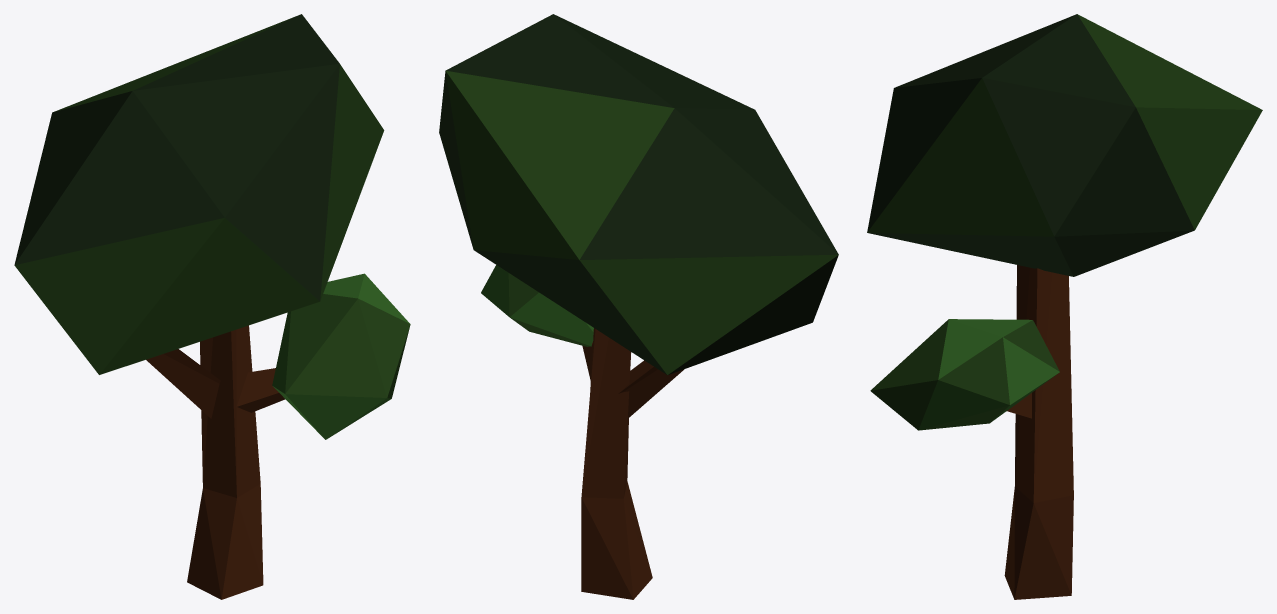
File: Tree3_M1_4_medium.fbx
3 renders of one model, left to right at view 1: azimuth 30°, elevation 25°; view 2: azimuth 150°, elevation 25°; view 3: azimuth 270°, elevation 25°, orthographic. The views are drawn at different scales.
Parts seen in each view (by area): view 1: Tree3_M1_4_medium; view 2: Tree3_M1_4_medium; view 3: Tree3_M1_4_medium.
Part boxes in pixels (x1,y1,x2,y2): Tree3_M1_4_medium: [14, 14, 410, 599]; Tree3_M1_4_medium: [439, 14, 838, 599]; Tree3_M1_4_medium: [867, 14, 1262, 599].
Bounding box in the file's own units: 264 × 344 × 223.
